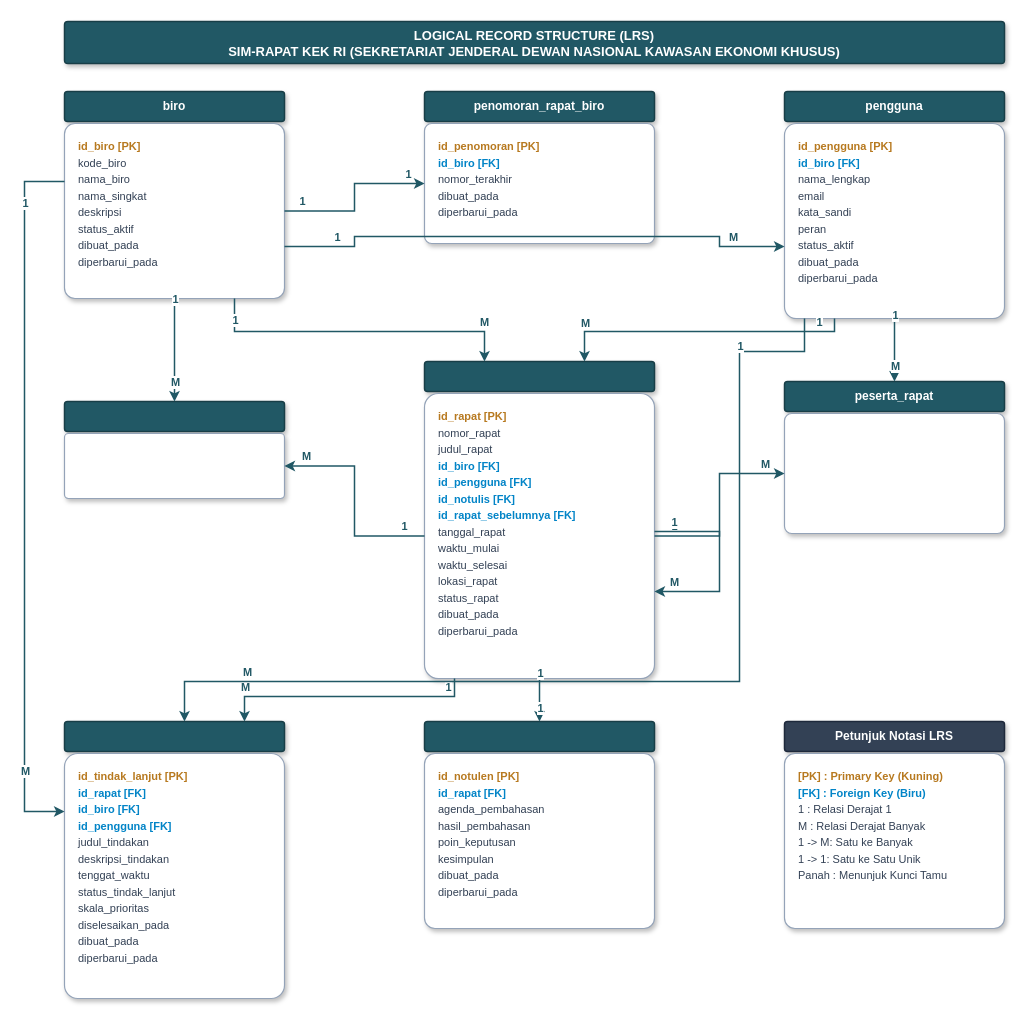
Image size: 1029x1024. Some labels were removed from this diagram. Here are the shapes that lost their labels. From the top down, the centre of each, then its label:
the point at 540,377: rapat
the point at 175,417: rapat_biro
the point at 175,467: id_rapat [PK, FK] id_biro [PK, FK]
the point at 895,474: id_peserta [PK] id_rapat [FK] id_pengguna [FK] status_kehadiran dibuat_pada
the point at 175,737: tindak_lanjut
the point at 540,737: notulen_rapat
